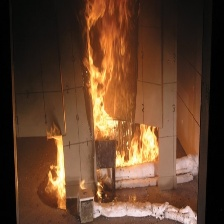fire: (80, 1, 160, 165), (46, 131, 67, 209)
